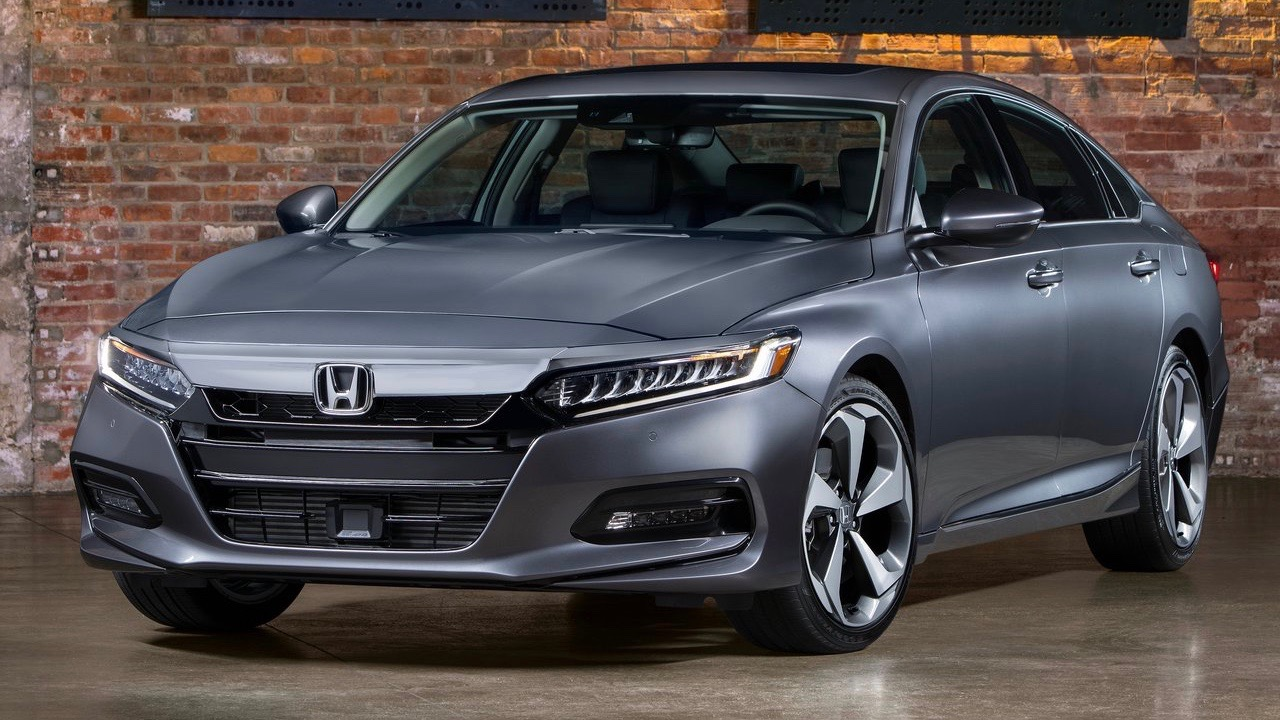accord: (61, 55, 1261, 671)
